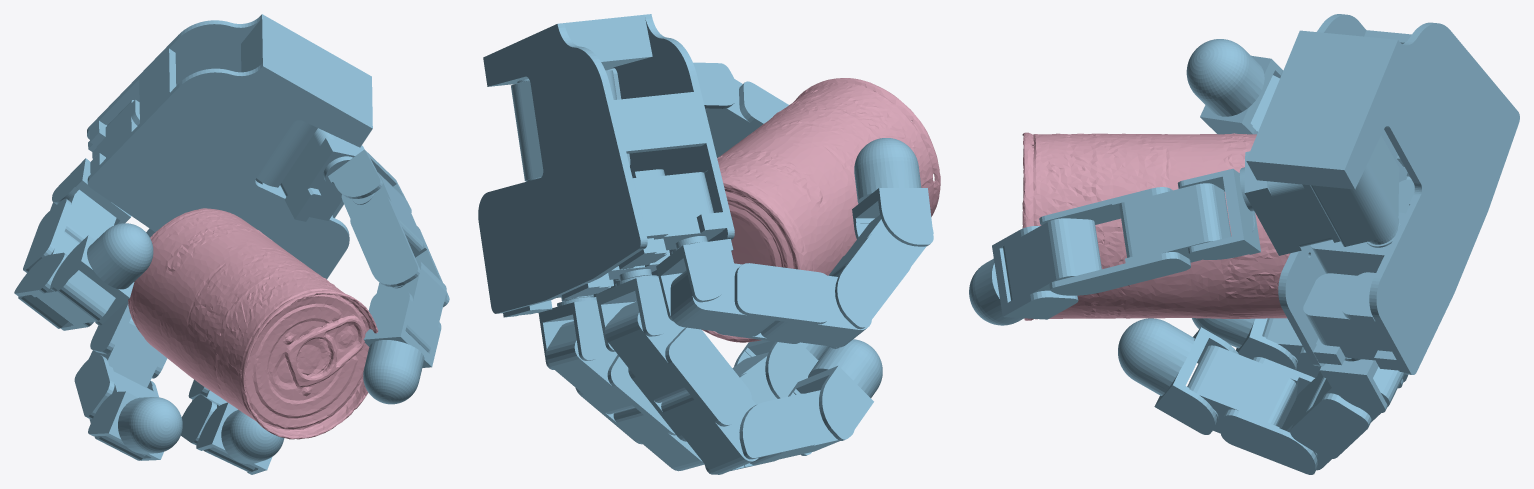
3 renders of one model, left to right at view 1: azimuth 30°, elevation 25°; view 2: azimuth 150°, elevation 25°; view 3: azimuth 270°, elevation 25°, orthographic. The views are drawn at different scales.
Visible parts, largest first — view 1: world, tomato_soup_can.stl; view 2: world, tomato_soup_can.stl; view 3: world, tomato_soup_can.stl.
Part boxes in pixels (x1=…): world: x1=14, y1=14, x2=449, y2=474; tomato_soup_can.stl: x1=128, y1=208, x2=378, y2=439; world: x1=478, y1=14, x2=933, y2=474; tomato_soup_can.stl: x1=702, y1=78, x2=940, y2=342; world: x1=969, y1=14, x2=1519, y2=474; tomato_soup_can.stl: x1=1022, y1=132, x2=1290, y2=320.
Size of the model in its own units: 0.1747 by 0.1875 by 0.1973.
